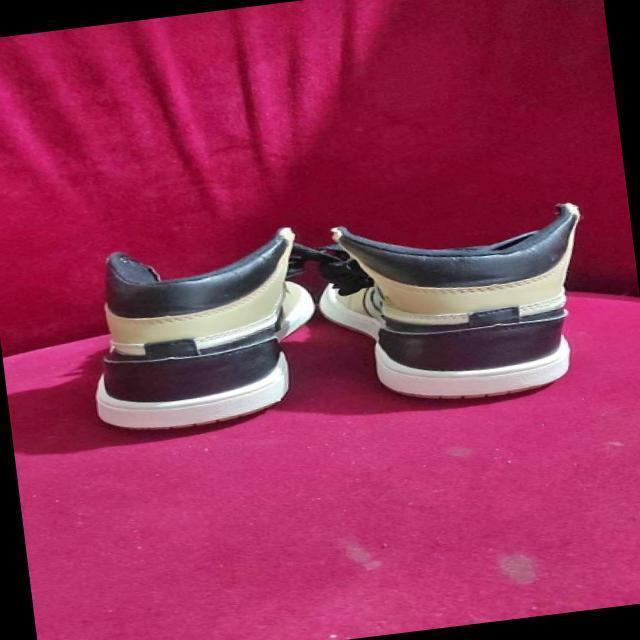nike fake jordan 1: (323, 192, 604, 416), (77, 217, 338, 442)
